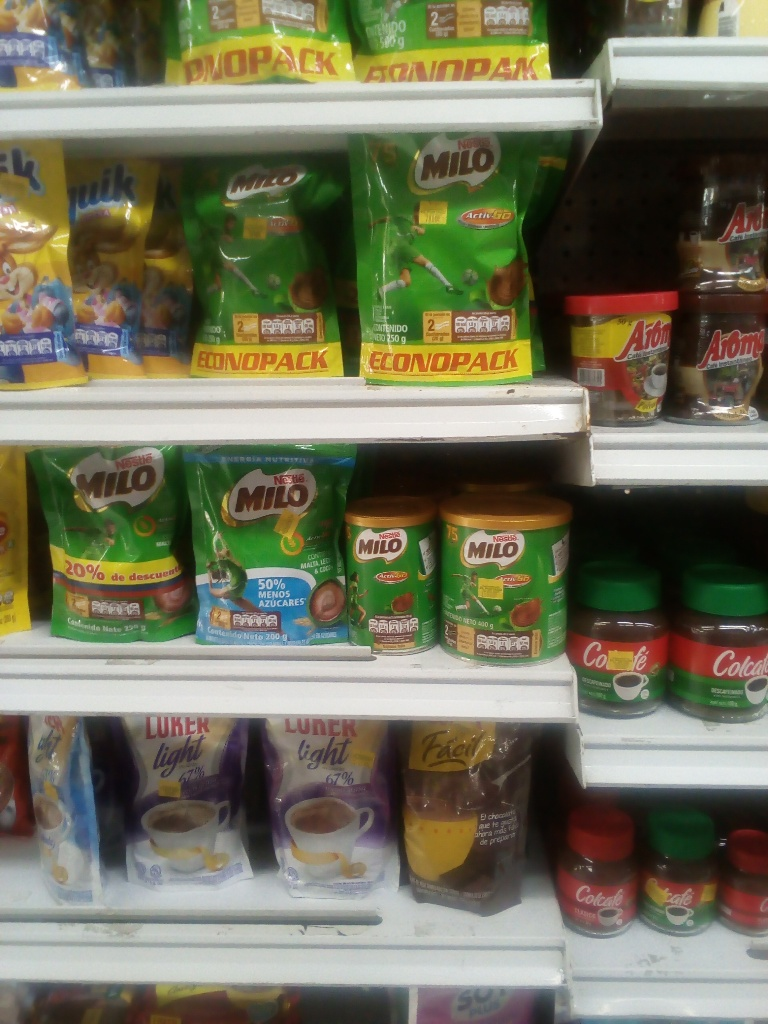COL0170203DYP25000: (343, 133, 563, 384)
COL0170203LAT20000: (344, 495, 439, 657)
COL0170203LAT40000: (440, 496, 577, 666)
COL0170205DYP20000: (185, 445, 355, 646)
